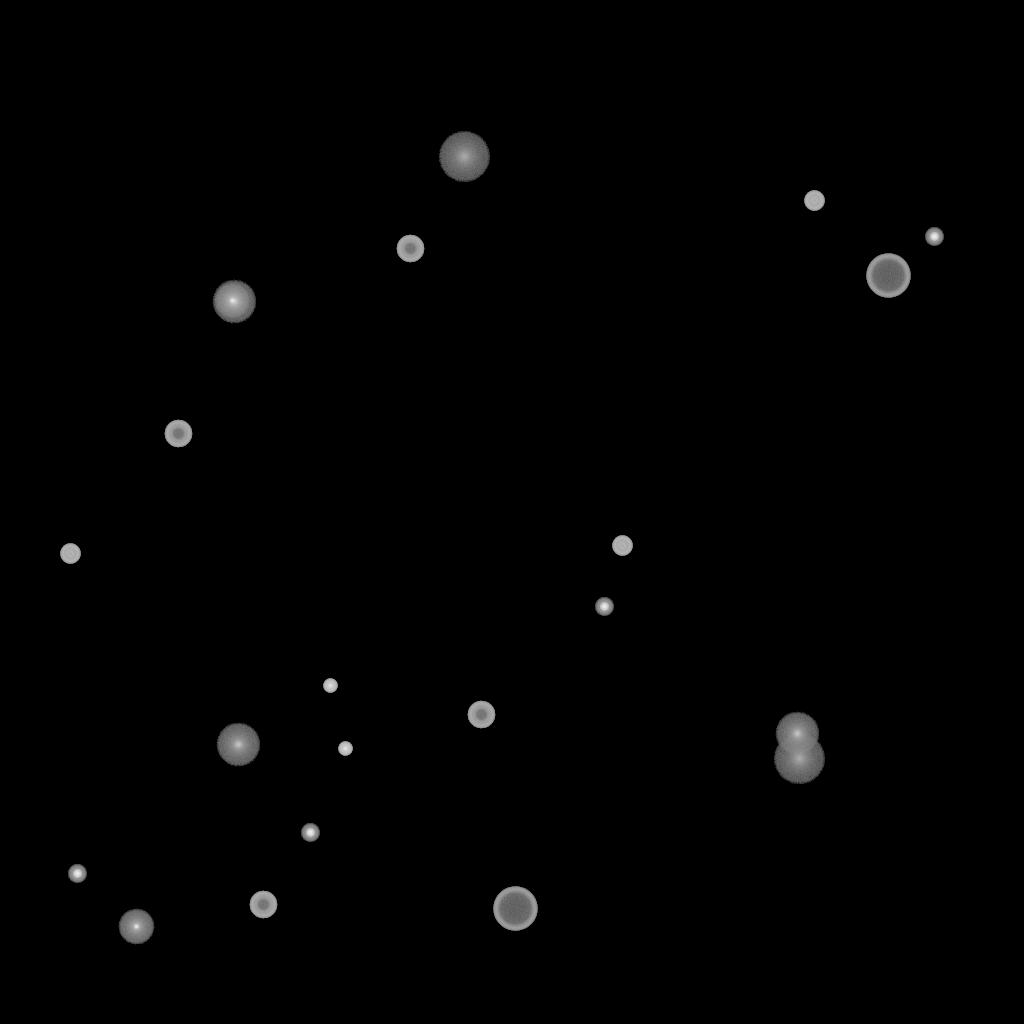depth:-20: (925, 228, 943, 246), (595, 598, 613, 616), (68, 865, 86, 883), (301, 824, 319, 842)
depth:-30: (338, 742, 352, 756), (323, 679, 337, 693)
depth:-40: (804, 191, 824, 211), (612, 536, 632, 556), (60, 544, 80, 564)
depth:-50: (396, 235, 424, 263), (249, 891, 277, 919), (467, 701, 495, 729), (164, 420, 192, 448)
depth:-70: (866, 254, 910, 298), (493, 887, 537, 931)
depth:0: (118, 909, 154, 945), (214, 283, 250, 319)
depth:10: (216, 723, 260, 767), (212, 280, 256, 324), (775, 712, 819, 756)
depth:20: (773, 734, 825, 784), (438, 132, 490, 182)
